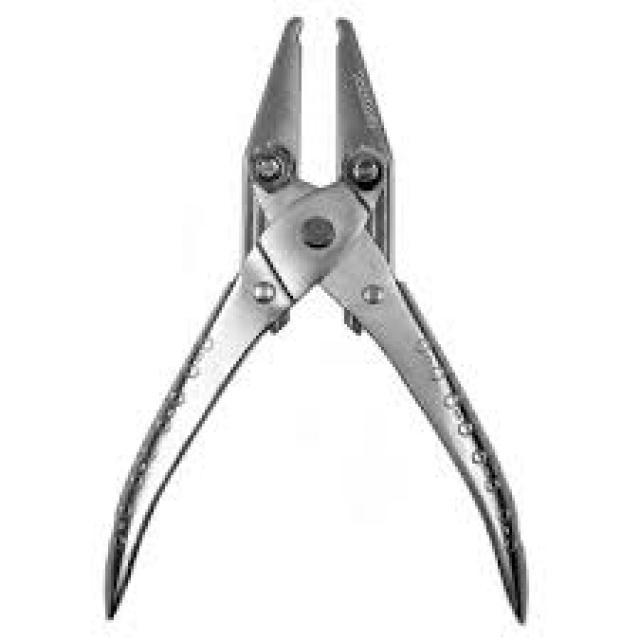pliers: (100, 12, 538, 621)
